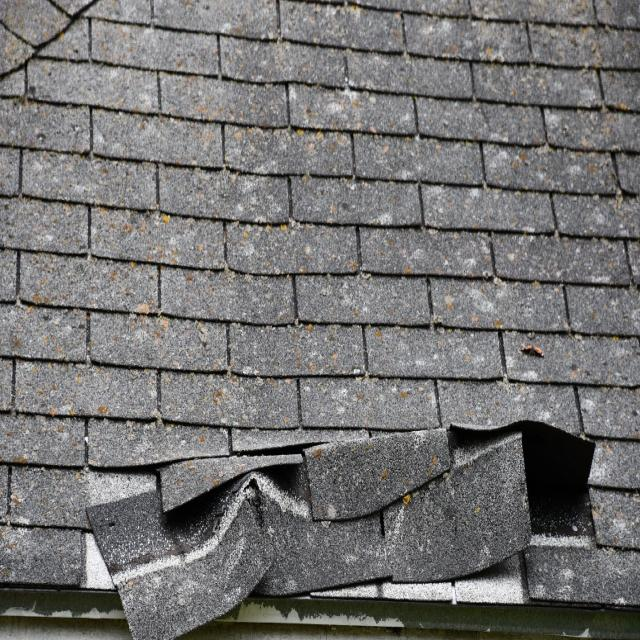damage: (80, 414, 607, 640)
